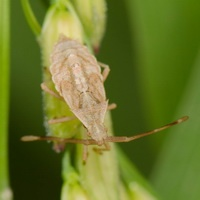insect: (21, 40, 188, 150), (20, 116, 188, 149)
